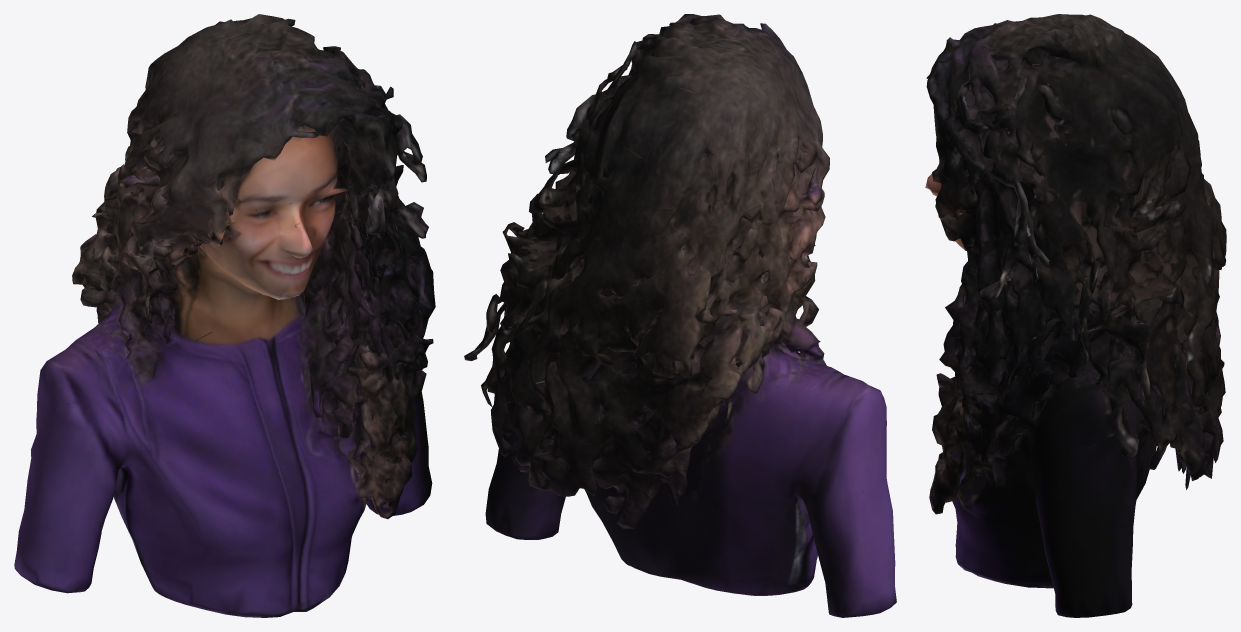
Rendered from standard_front_view_o_0919011502.glb.
The picture shows the model from 3 angles, left to right: view 1: azimuth 30°, elevation 25°; view 2: azimuth 150°, elevation 25°; view 3: azimuth 270°, elevation 25°; orthographic projection.
Visible parts, largest first — view 1: Mesh_0.002; view 2: Mesh_0.002; view 3: Mesh_0.002.
Part boxes in pixels (x1,y1,x2,y2): Mesh_0.002: (14,14,435,617); Mesh_0.002: (464,14,896,617); Mesh_0.002: (925,14,1226,617).
Size of the model in its own units: 1.56 by 1.99 by 0.9981.
1 material, 1 textured.
